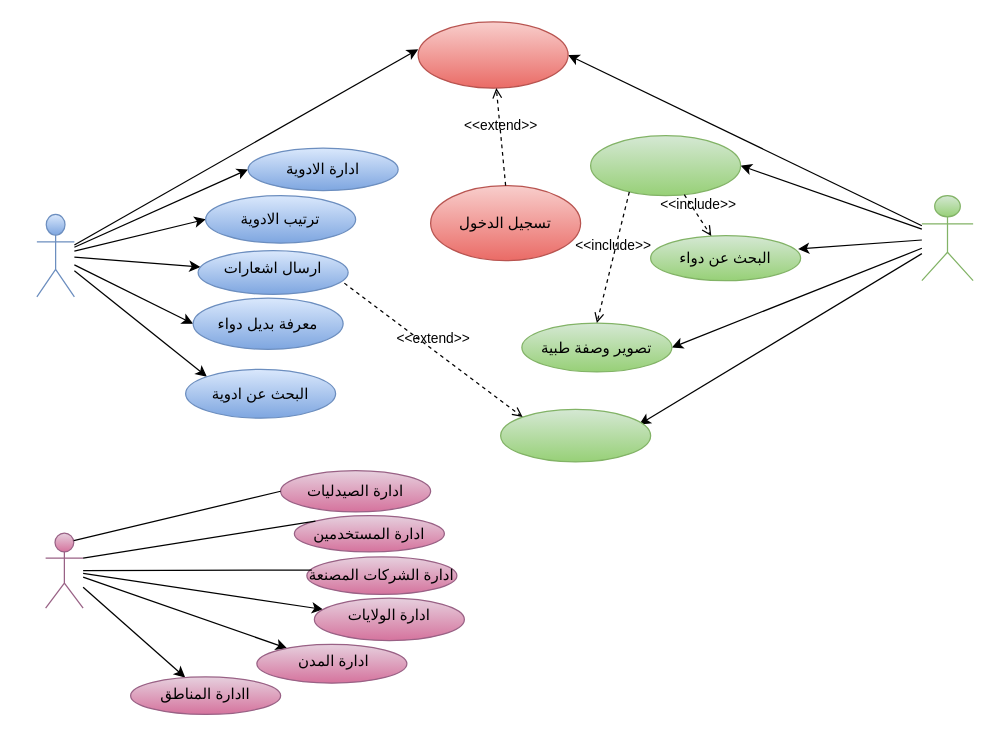
Some shapes in this 995 by 736 pixel diagram are drawn without their labels. The box of each missing label's shape, as (x1, y1, x2, y2) in pixels:
Admin: (44, 532, 83, 608)
Pharmacy: (36, 213, 74, 297)
User: (921, 194, 973, 281)
التسجيل في النظام: (417, 21, 568, 88)
حجز دواء: (499, 408, 651, 462)
معرفة اقرب الصيدليات: (589, 134, 741, 196)
